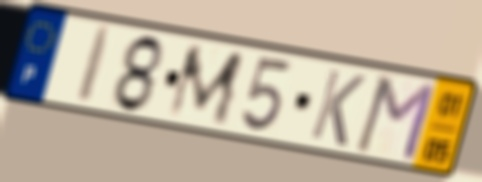5: (240, 53, 295, 134)
8: (111, 30, 167, 117)
I: (73, 23, 117, 108)
K: (306, 65, 369, 150)
M: (351, 73, 440, 165), (164, 43, 248, 128)
